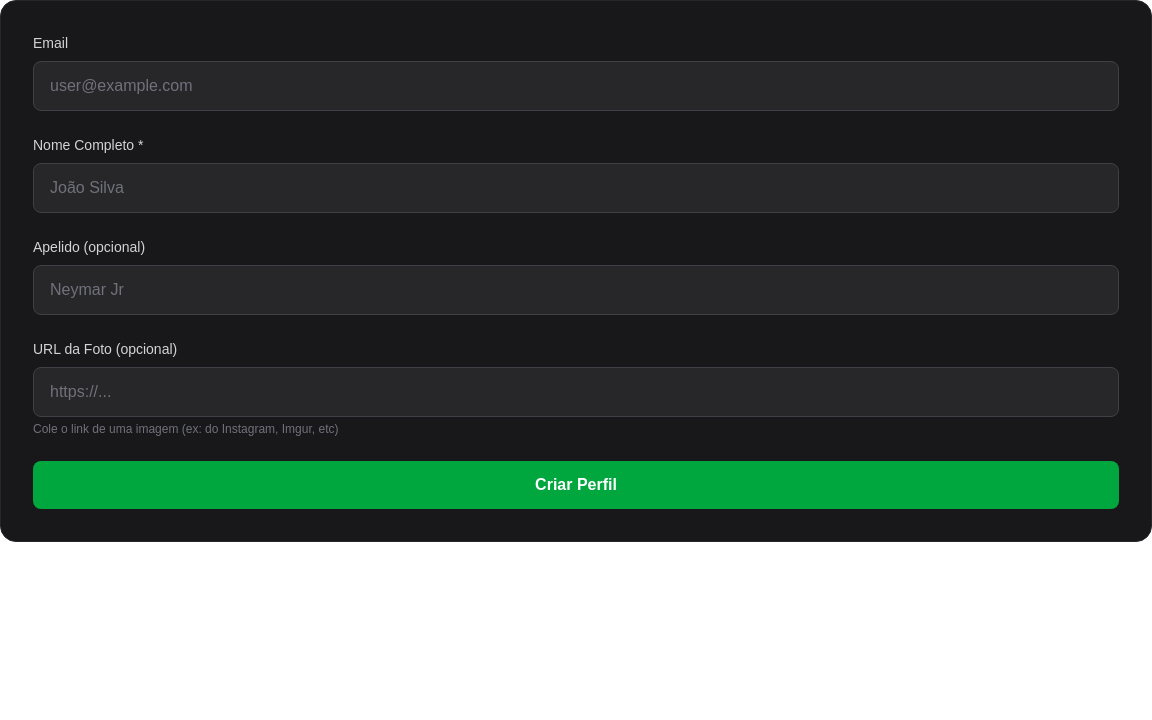
PerfilForm › exibe erro quando salvarPerfil falha
The image size is (1152, 720).
In the field labelled "Nome Completo *": (576, 188) [33,163,1119,213], type "Maria Silva"
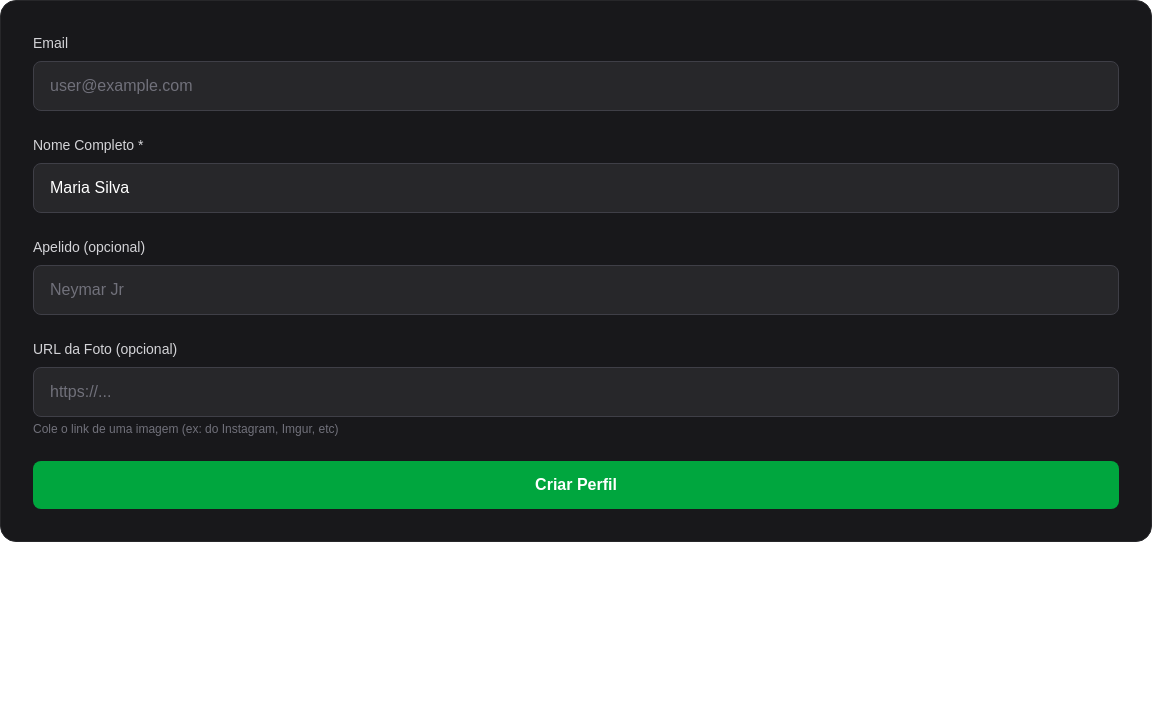
Click the button "Criar Perfil": click(576, 485) [33,461,1119,509]
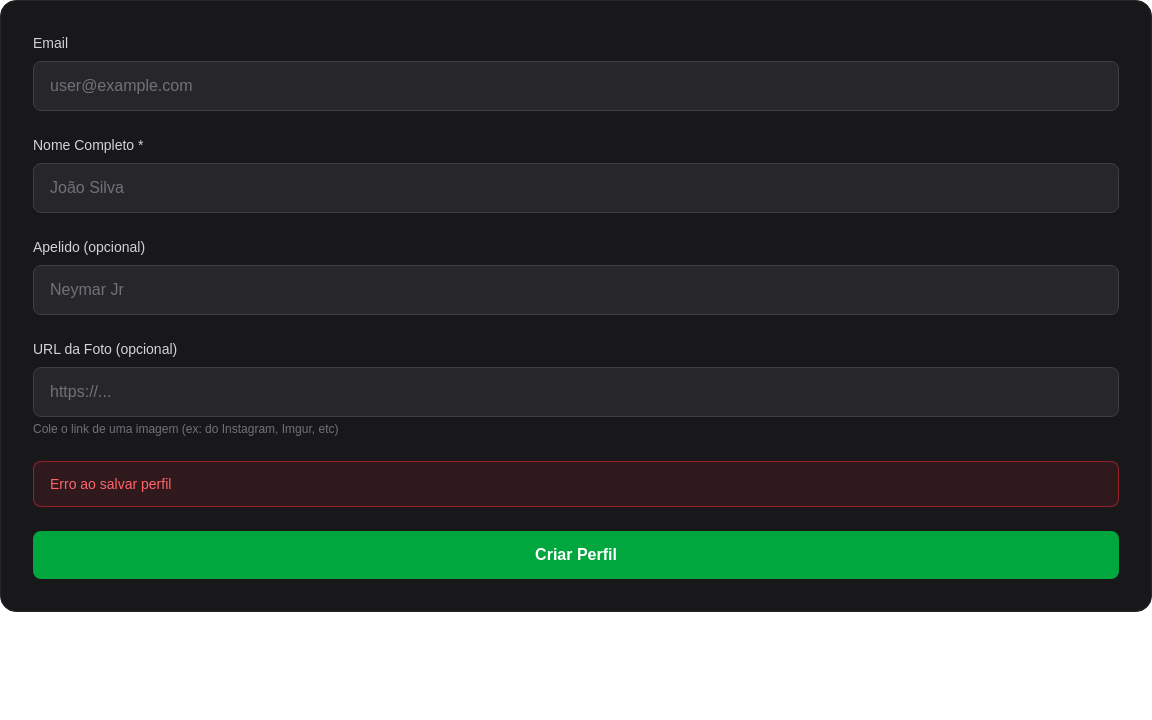
Check: the text "Erro ao salvar perfil" is shown, box [33,461,1119,507]
